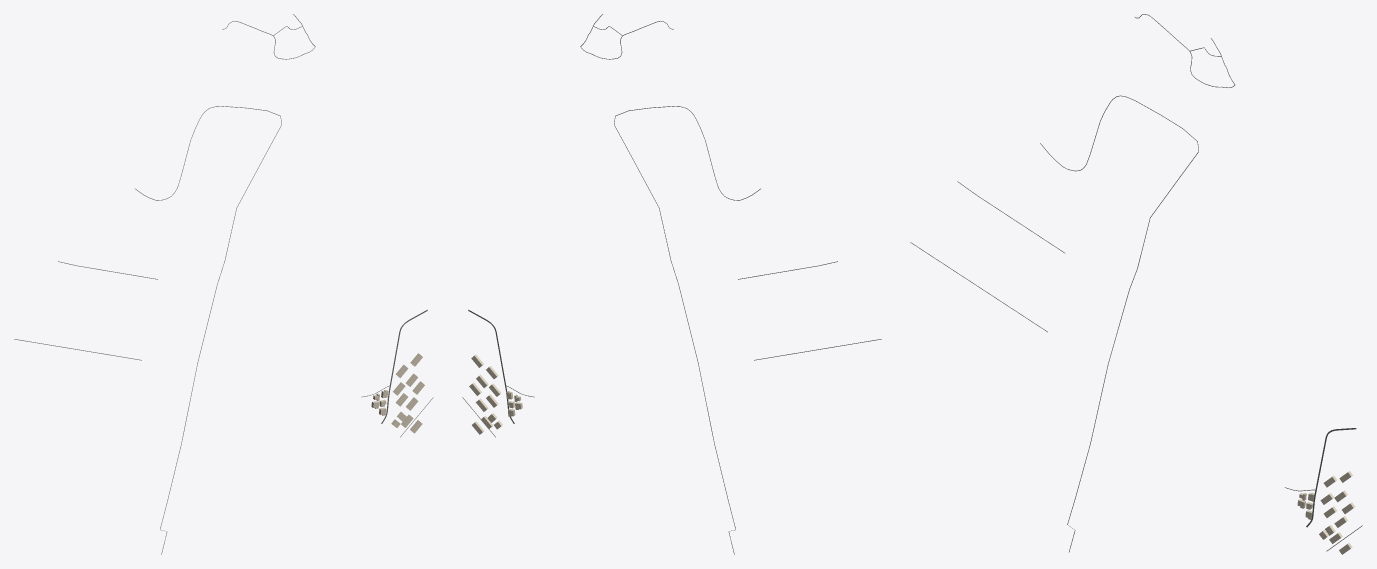
File: historic-palestine-05_22_3467_3166.glb
3 views of the same model, side by side, from view 1: azimuth 30°, elevation 25°; view 2: azimuth 150°, elevation 25°; view 3: azimuth 330°, elevation 25° (orthographic). The views are drawn at different scales.
Parts seen in each view (by area): view 1: Road .002; view 2: Road .002; view 3: Road .002.
Part boxes in pixels (x1,y1,x2,y2): Road .002: [135, 106, 281, 554]; Road .002: [614, 106, 760, 554]; Road .002: [1040, 95, 1198, 552].
Size of the model in its own units: 1076 by 1266 by 8.7.
